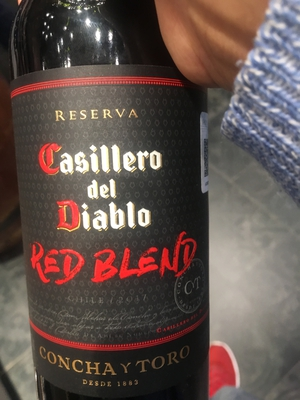casillero del diablo red blend: (12, 11, 210, 400)
